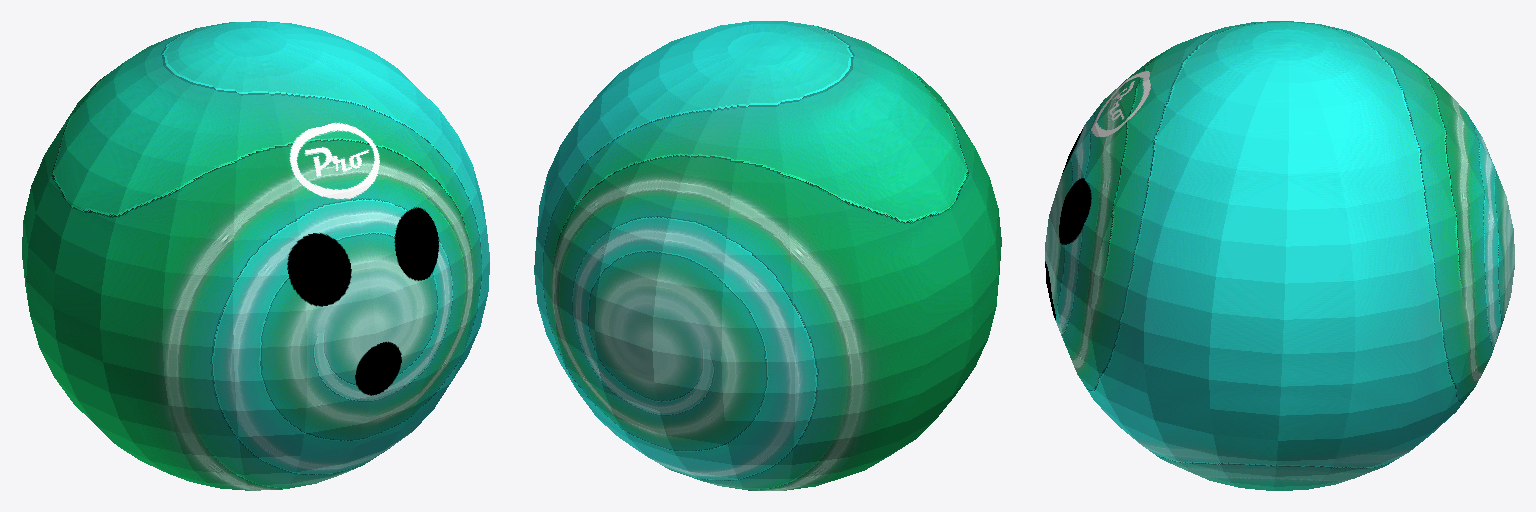
3 views of the same model, side by side, from view 1: azimuth 30°, elevation 25°; view 2: azimuth 150°, elevation 25°; view 3: azimuth 270°, elevation 25° (orthographic).
Visible parts, largest first — view 1: ball1:pSphere18; view 2: ball1:pSphere18; view 3: ball1:pSphere18.
Boxes of the visible parts, box(x1,y1,x2,y2) form: ball1:pSphere18: box(22, 21, 489, 490); ball1:pSphere18: box(534, 21, 1001, 490); ball1:pSphere18: box(1045, 21, 1514, 490).
Bounding box in the file's own units: 0.8208 × 0.8202 × 0.8202.
1 materials, 1 textured.